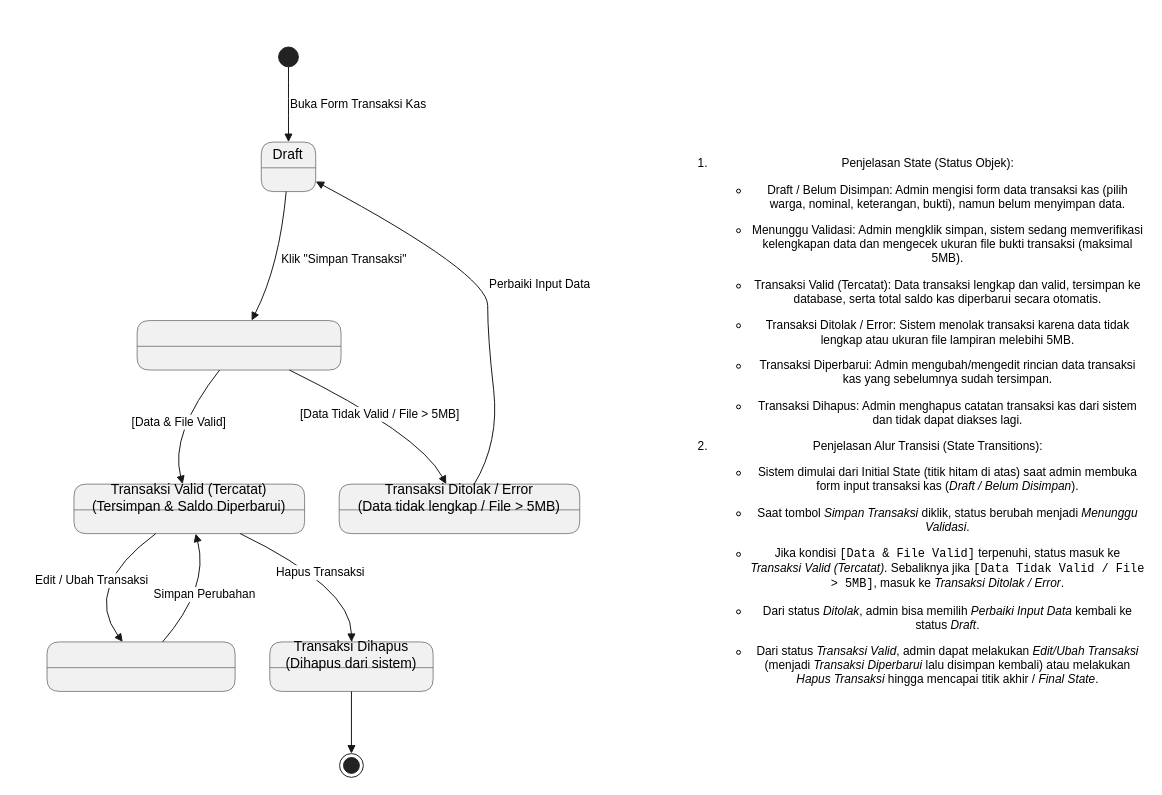
Image size: 1162x795. Some labels were removed from this diagram. Here are the shapes that lost their labels. From the top down, the box of each, then its label:
(136, 320, 341, 370): Menunggu Validasi (Validasi Data & File ≤ 5MB)
(46, 641, 235, 691): Transaksi Diperbarui (Data kas berhasil diedit)
